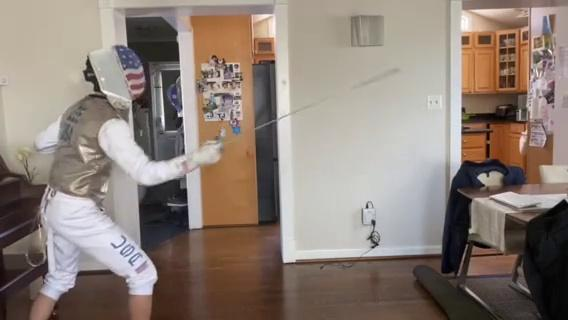blade-guard: (200, 134, 228, 159)
blade-tip: (356, 67, 401, 88)
fencing-blade: (191, 63, 404, 162)
